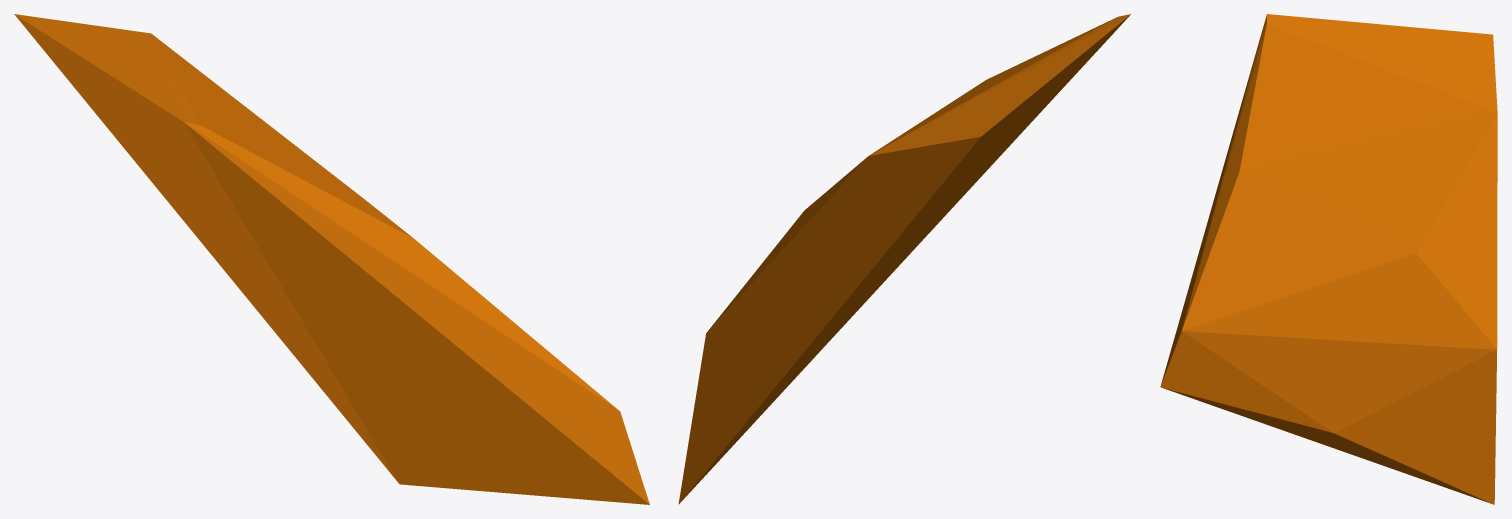
The model's file is arm-L1-mirror_convex_piece_000.obj.
The picture shows the model from 3 angles, left to right: view 1: azimuth 30°, elevation 25°; view 2: azimuth 150°, elevation 25°; view 3: azimuth 270°, elevation 25°; orthographic projection. The views are drawn at different scales.
Bounding box in the file's own units: 0.0198 × 0.028 × 0.0232.
